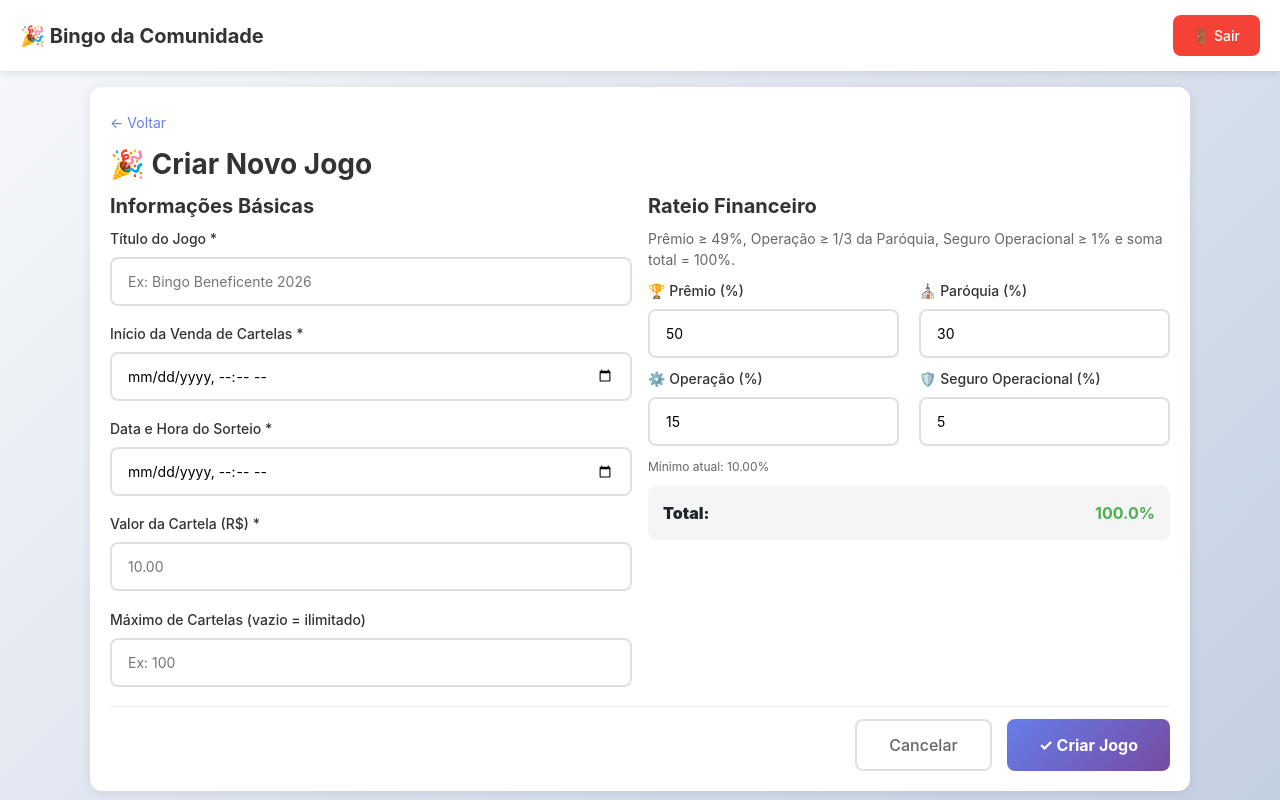
Scenario: NewGame › exibe erro e não redireciona quando API falha
The width and height of the screenshot is (1280, 800).
Step 1. Type "Bingo Teste Paroquial" into the field with placeholder "Ex: Bingo Beneficente 2026" → (371, 281), box [110, 257, 632, 306]
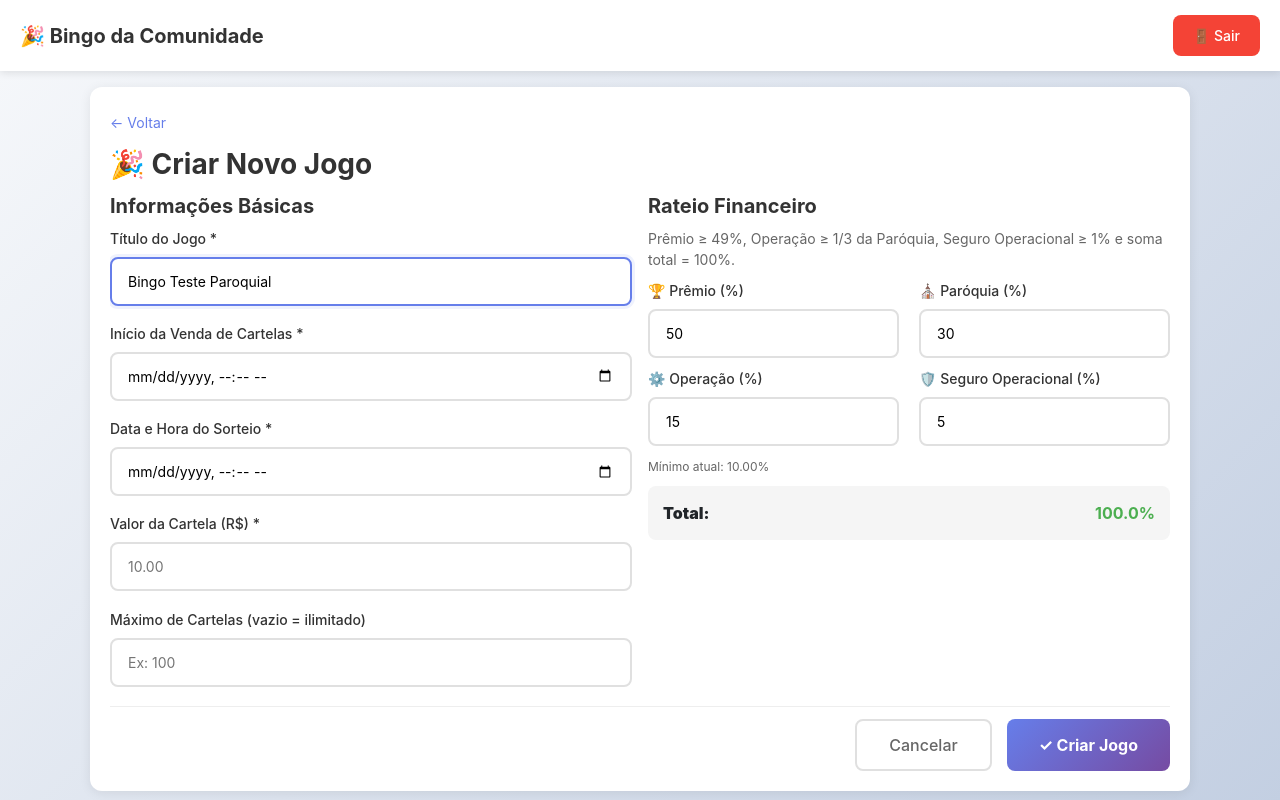
Step 2. Type "12.5" into the number field with placeholder "10.00" → (371, 567), box [110, 542, 632, 591]
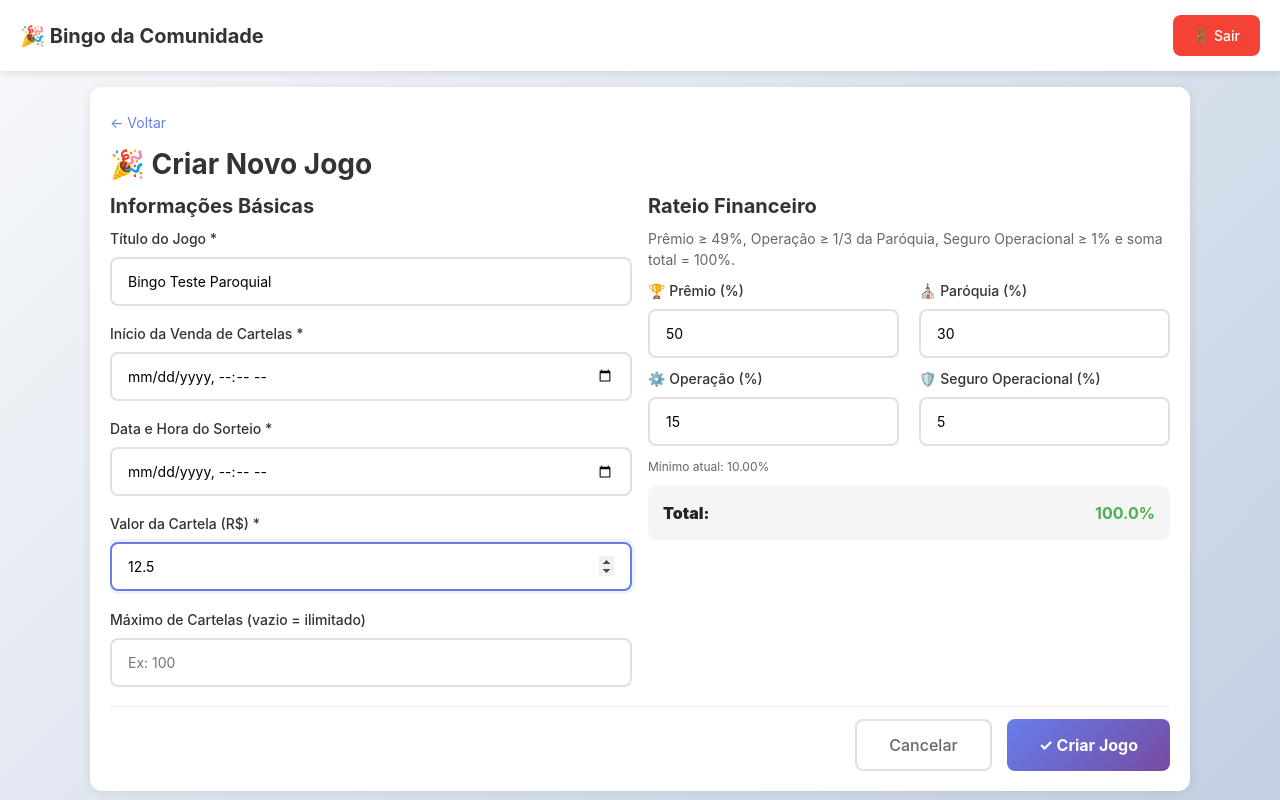
Step 3. Type "2026-03-01T10:00" into the field below "Início da Venda de Cartelas *" → (371, 376), box [110, 352, 632, 401]
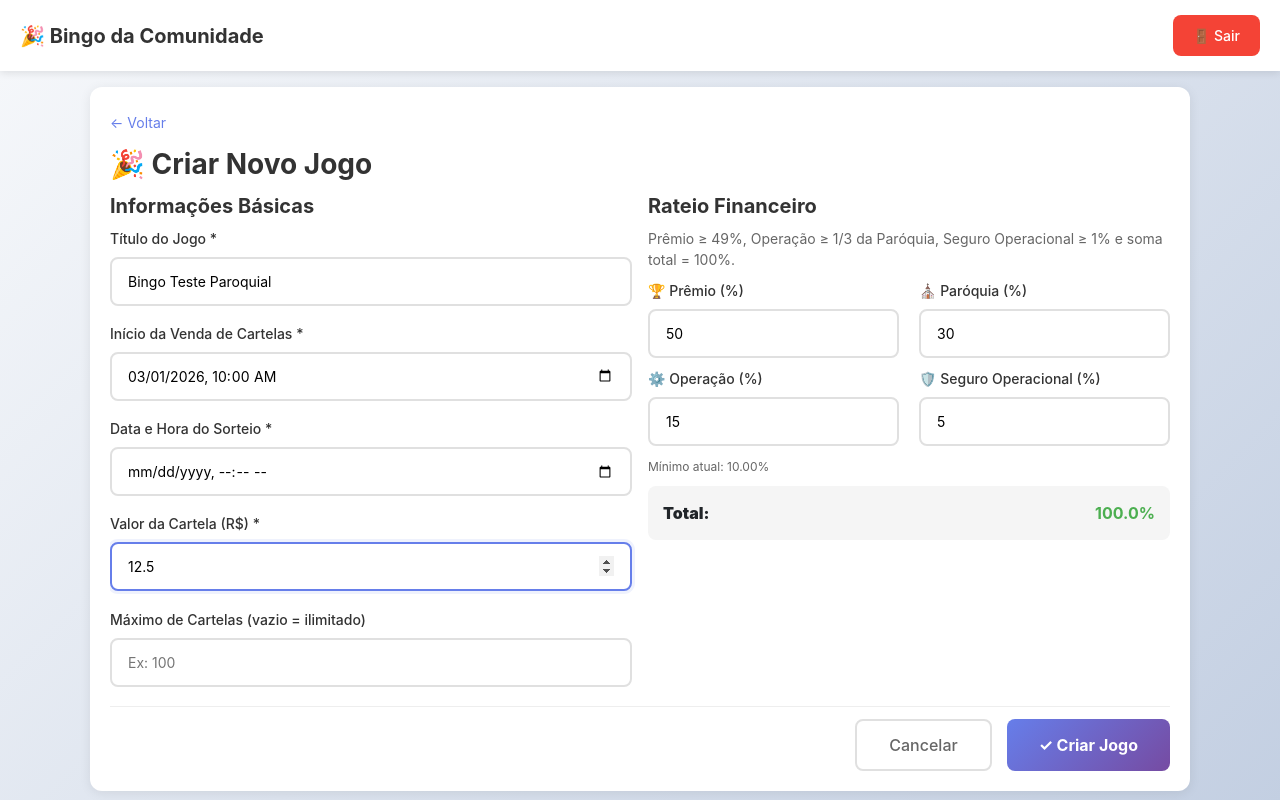
Step 4. Type "2026-03-01T12:00" into the field below "Data e Hora do Sorteio *" → (371, 472), box [110, 447, 632, 496]
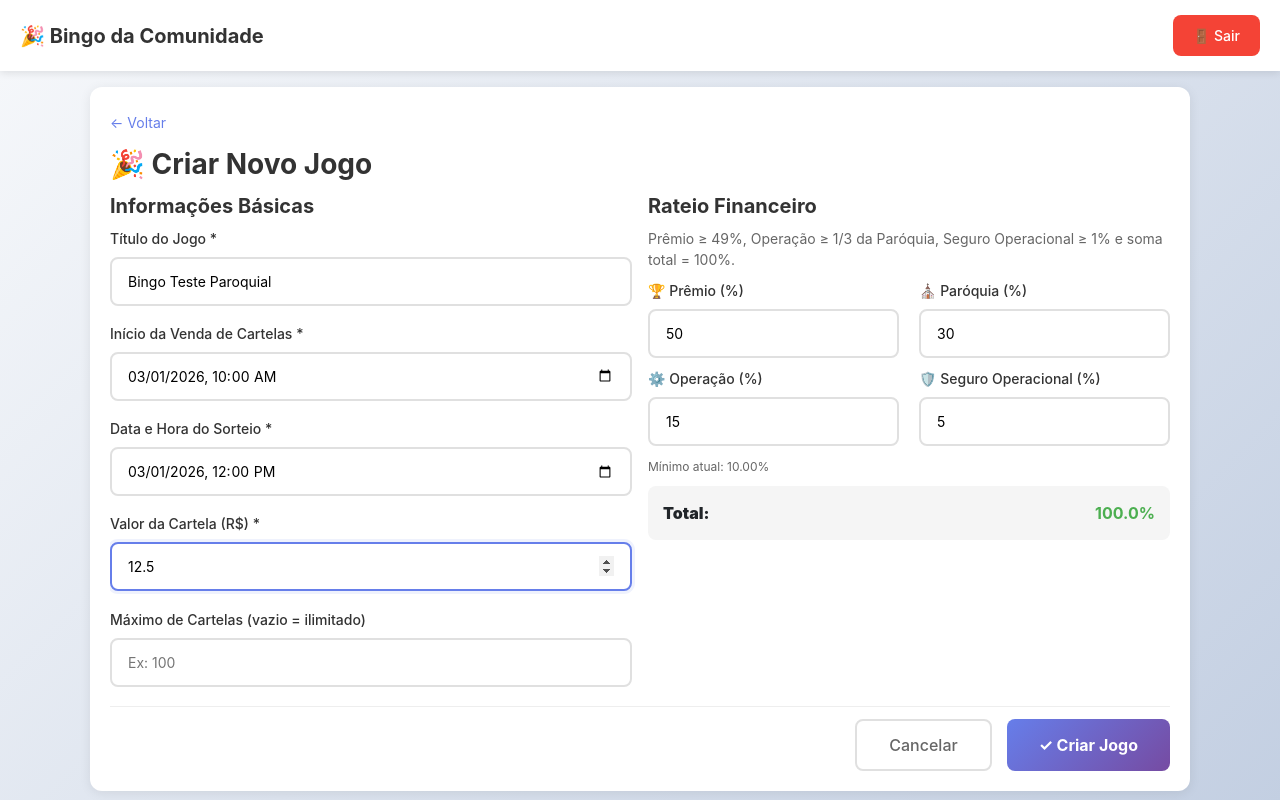
Step 5. Click the button "✓ Criar Jogo" → (1088, 745), box [1007, 719, 1170, 771]
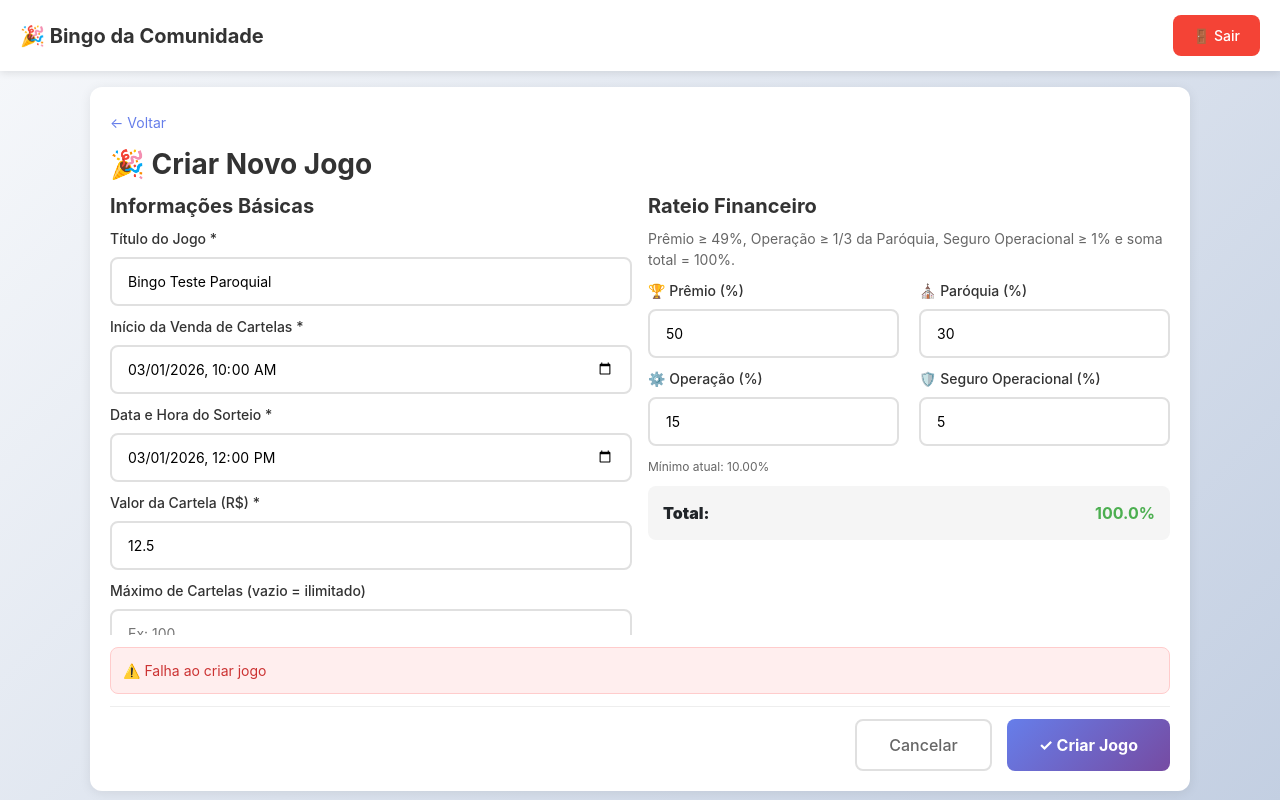
Check: the text "⚠️ Falha ao criar jogo" is shown, box [110, 647, 1170, 694]
